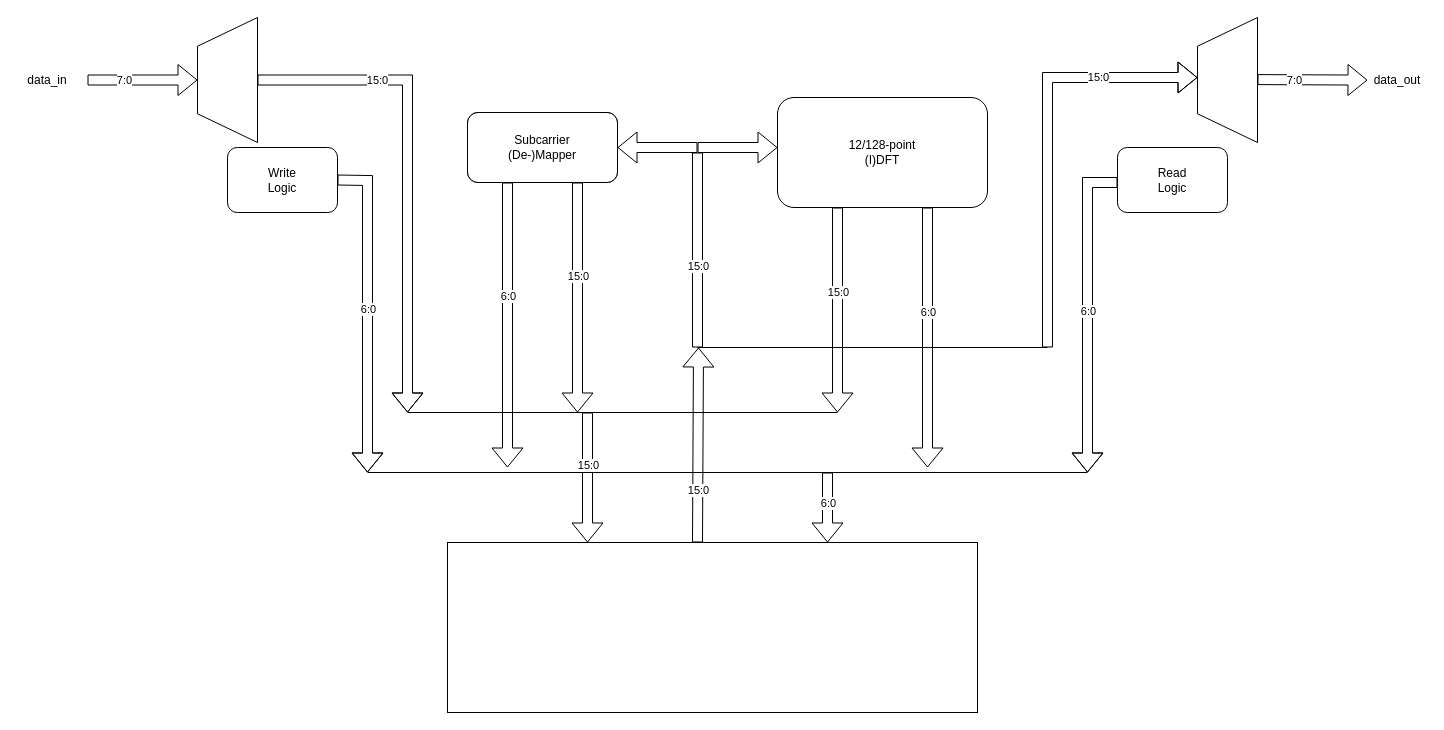
This 1444x730 diagram has some shape labels left out. The shapes that lost their labels are listed below. From the top down, each one's centre as x and y in pixels, then its label:
(227,79): Serial to Parallel 1:2
(1227,79): Parallel to Serial 2:1
(712,627): SRAM (Data) 128x16b
